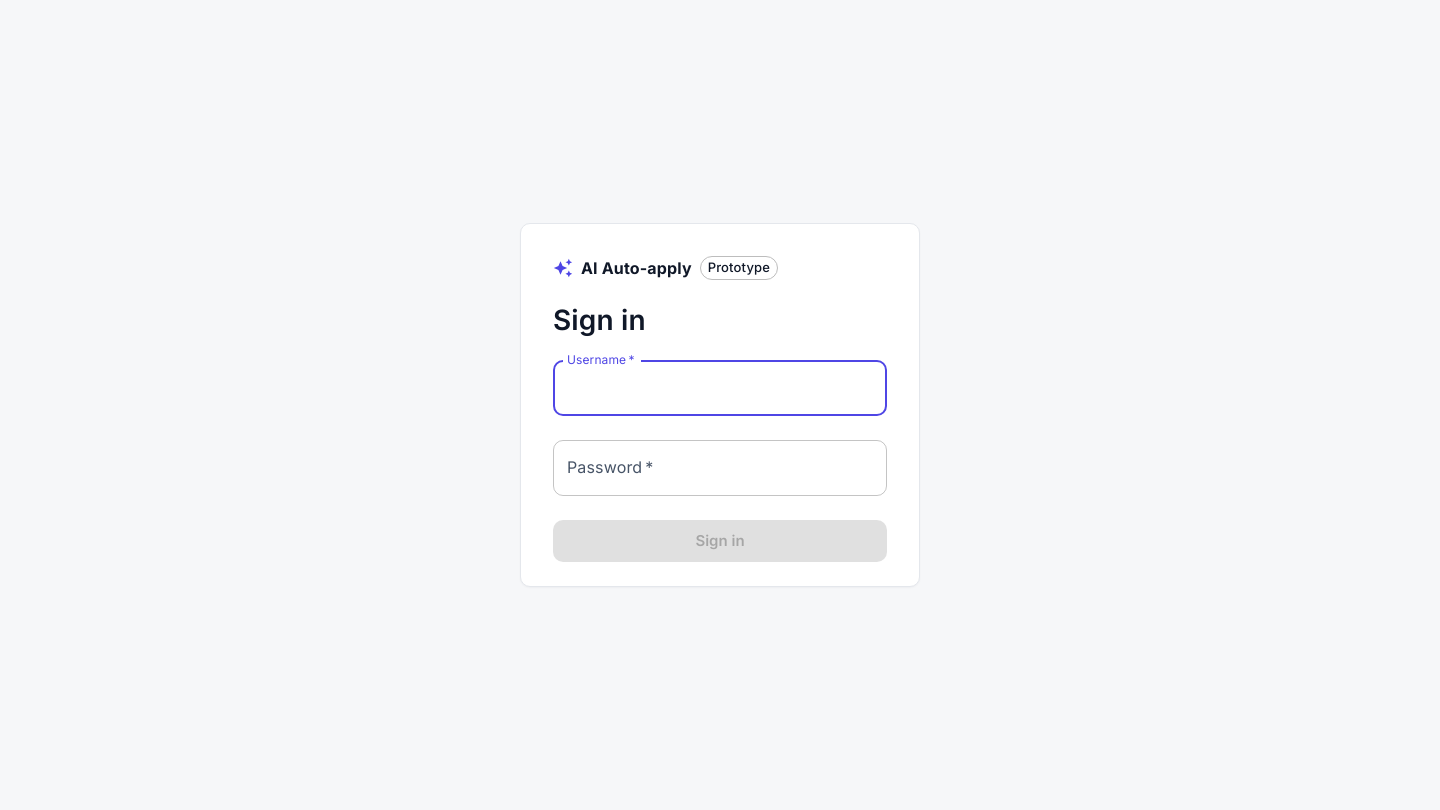
login gate › calls the API only at same-origin /api paths, never an absolute URL
Type "jobseeker" into the field labelled "Username *" at [720, 388], box [553, 360, 887, 416]
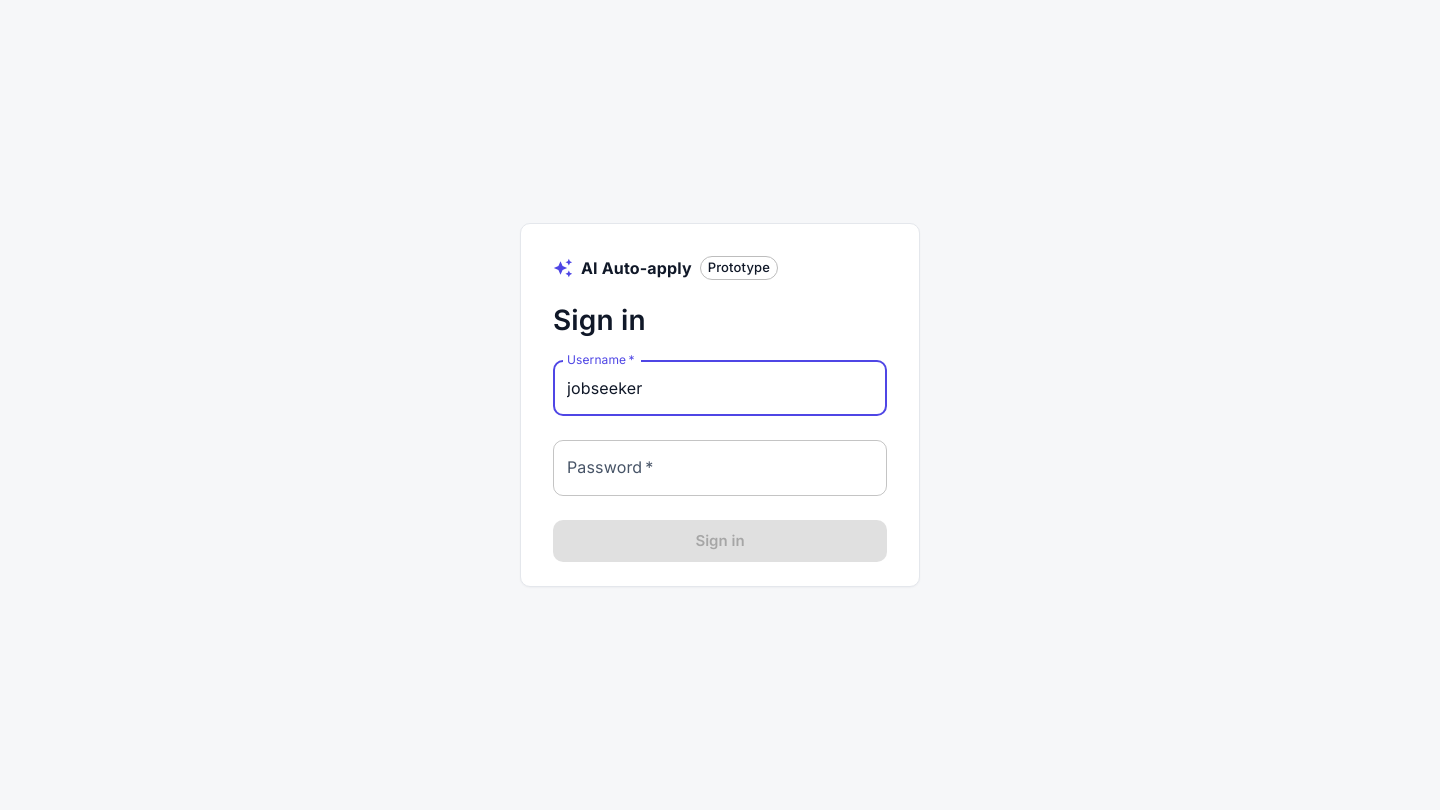
Type "correct" into the password field labelled "Password *" at [720, 468], box [553, 440, 887, 496]
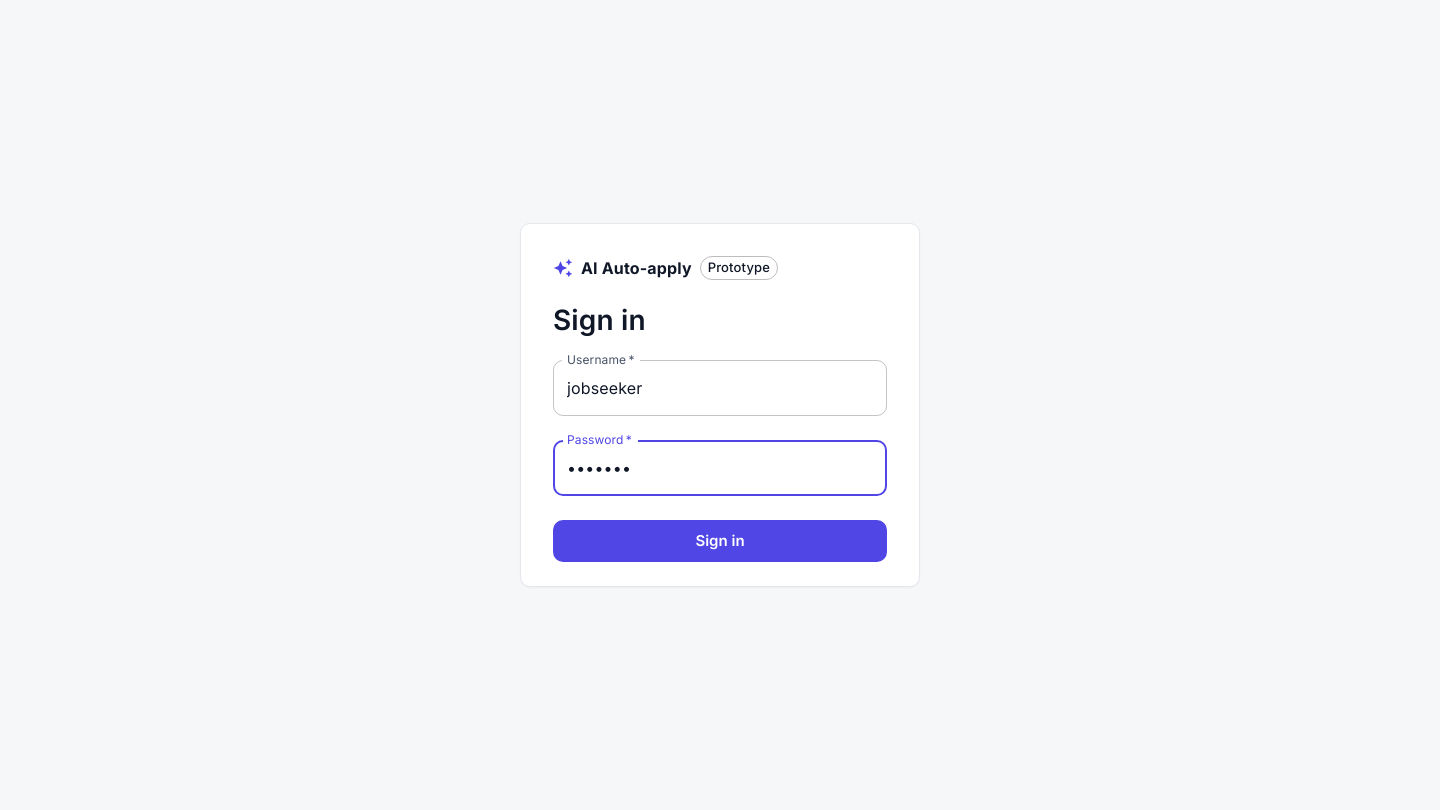
Click the button "Sign in" at [720, 541], box [553, 520, 887, 562]
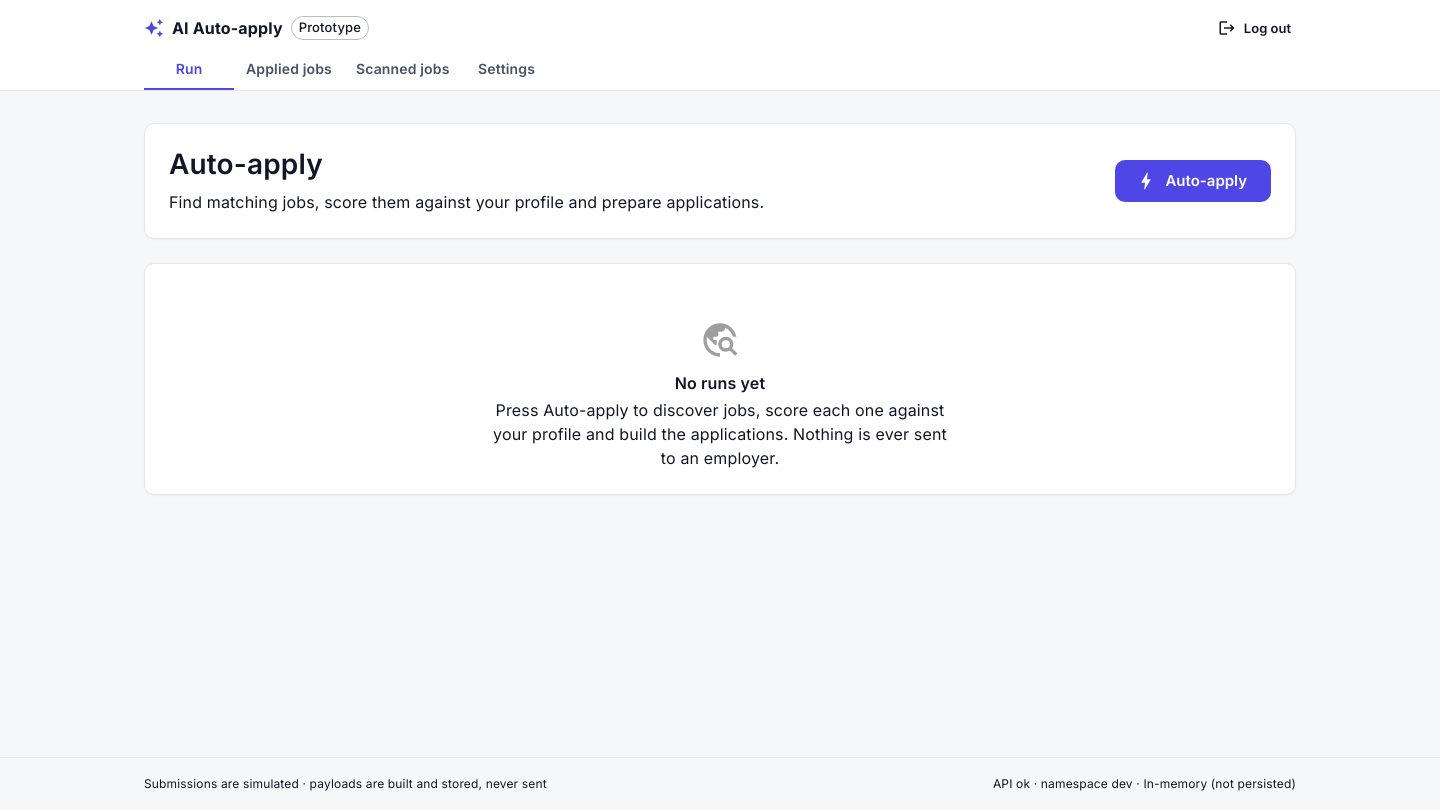
Check: the button "Auto-apply" is shown, box [1115, 160, 1271, 202]
